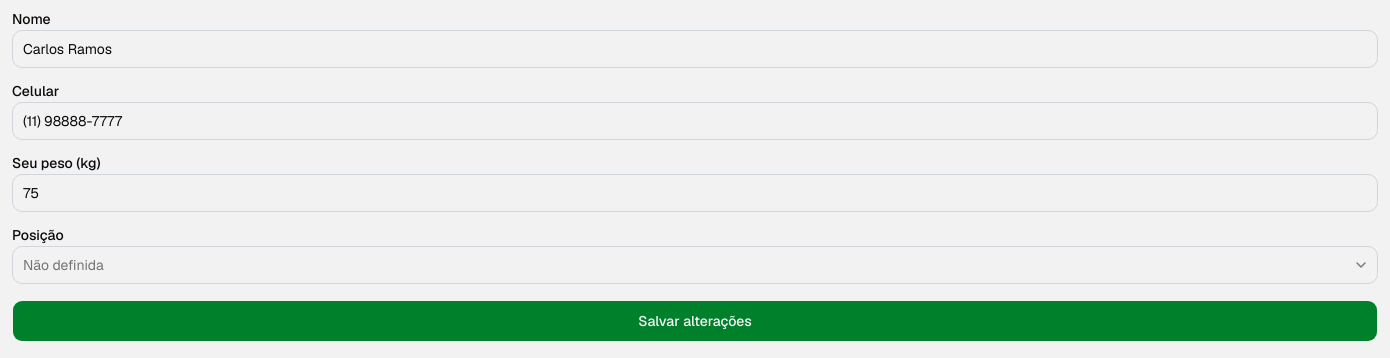
it: PlayerSelfEditForm › phone field interaction › applies mask as user types a new phone number
Replace the text in the field labelled "Celular" with "11977776666" at (695, 121), box [12,102,1378,140]
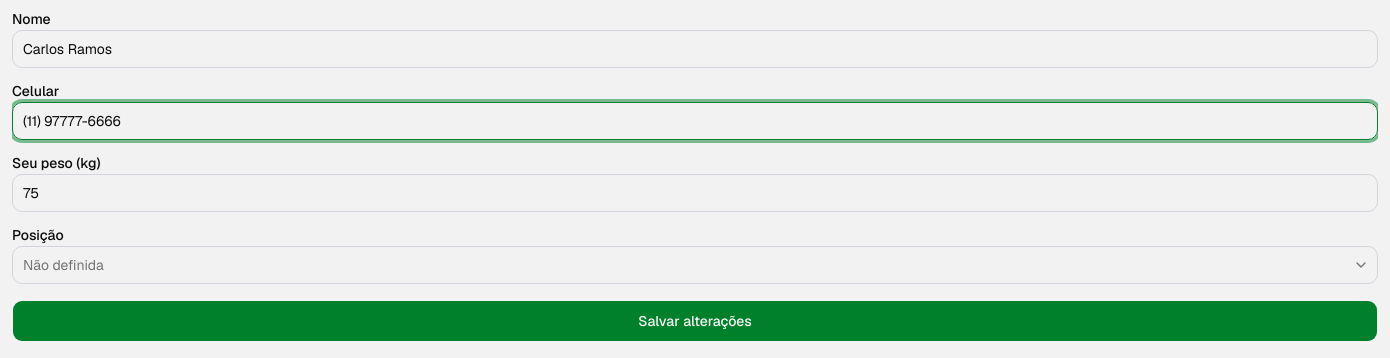
Expected: the field labelled "Celular" holds "(11) 97777-6666", [12,102,1378,140]
